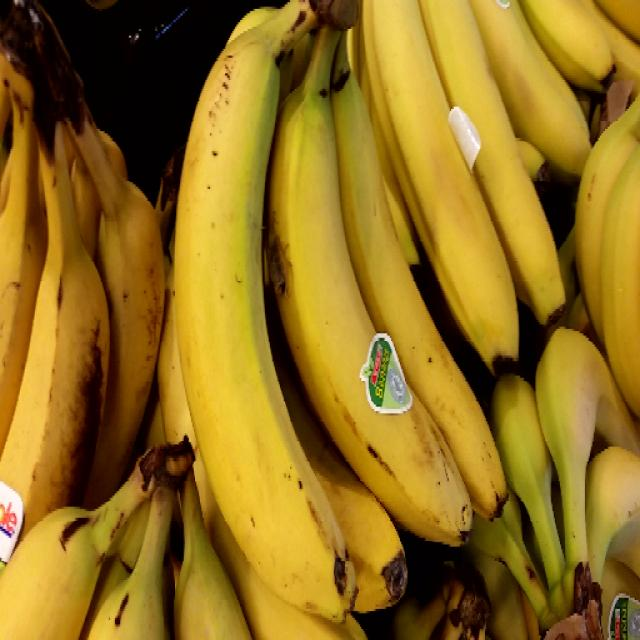banana: (168, 0, 640, 613), (0, 0, 166, 587)
